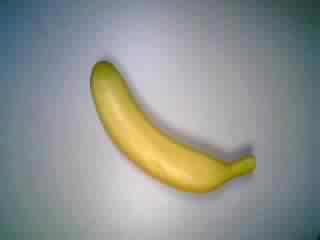banana: (85, 59, 263, 195)
